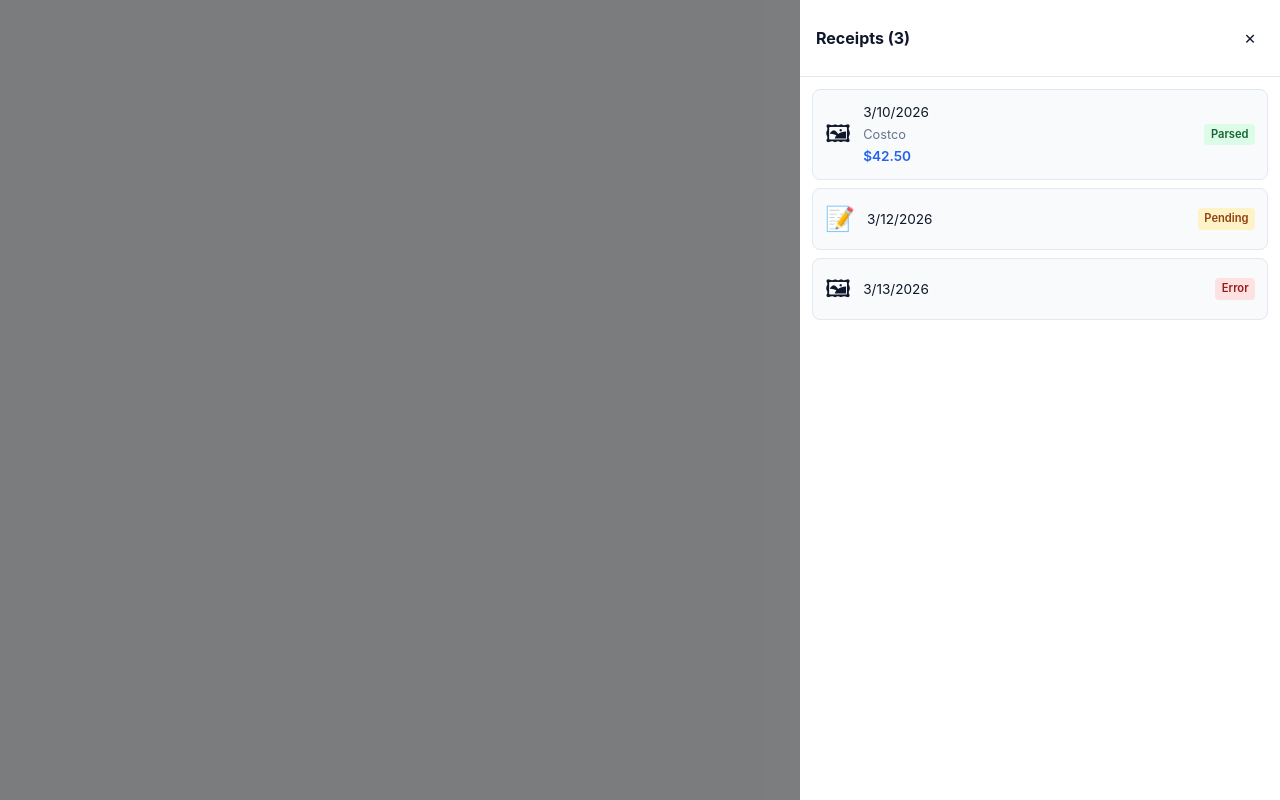
Test: ReceiptViewerModal › navigates to detail view on receipt click
Click the element with test id "receipt-list-item-1".
click(1040, 134)  # box [812,89,1268,180]
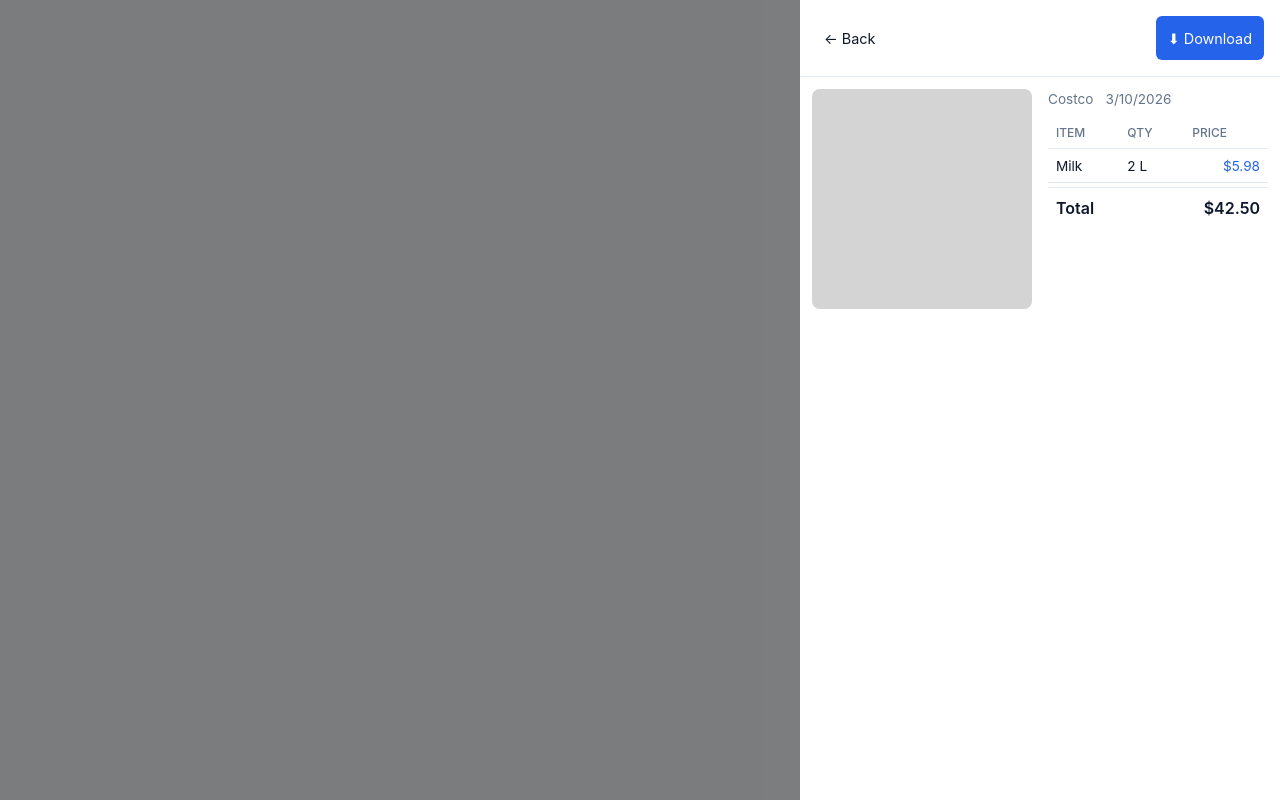
Result: the button with test id "receipt-viewer-back" is shown at [816,16,883,60]
Result: the button with test id "receipt-viewer-download" is shown at [1156,16,1264,60]
